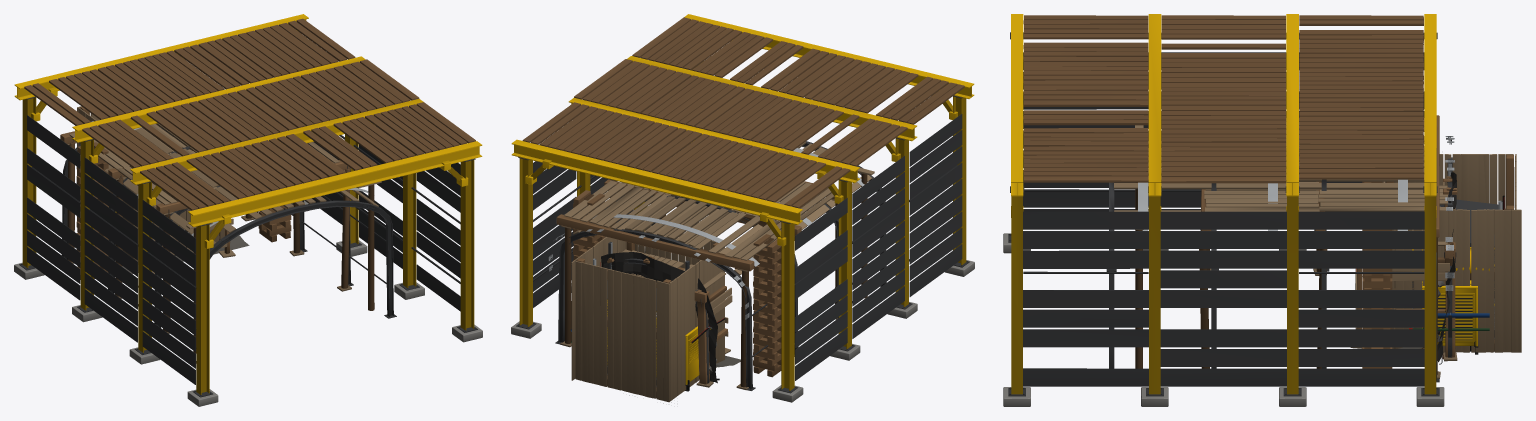
Rendered from mine-kit.glb.
The picture shows the model from 3 angles, left to right: view 1: azimuth 30°, elevation 25°; view 2: azimuth 150°, elevation 25°; view 3: azimuth 270°, elevation 25°; orthographic projection. The views are drawn at different scales.
Parts seen in each view (by area): view 1: shoring_4, shoring_1, shoring_2, rubble_wall, shaft_frame; view 2: shoring_4, shoring_1, shaft_frame, shaft_frame_landing, shoring_2, rubble_wall, timber_set, shoring_3, generator; view 3: shoring_4, shaft_frame, shoring_1, shaft_frame_landing, shoring_2, generator, timber_set, shoring_3, rubble_wall, elevator_cage, pipe_2m, steel_arch.
Boxes of the visible parts, x1,y1,x2,y2 form: shoring_4: [14, 14, 482, 406]; shoring_1: [60, 124, 381, 353]; shoring_2: [61, 123, 396, 363]; rubble_wall: [115, 126, 249, 274]; shaft_frame: [79, 106, 230, 264]; shoring_4: [511, 14, 974, 402]; shoring_1: [556, 154, 874, 390]; shaft_frame: [573, 225, 724, 401]; shaft_frame_landing: [571, 237, 722, 402]; shoring_2: [555, 141, 886, 390]; rubble_wall: [601, 252, 740, 383]; timber_set: [607, 249, 732, 387]; shoring_3: [548, 138, 864, 319]; generator: [607, 311, 719, 391]; shoring_4: [1003, 14, 1444, 406]; shaft_frame: [1382, 154, 1518, 352]; shoring_1: [1135, 115, 1440, 378]; shaft_frame_landing: [1386, 154, 1521, 352]; shoring_2: [1106, 141, 1439, 382]; generator: [1422, 280, 1478, 354]; timber_set: [1392, 182, 1457, 361]; shoring_3: [1138, 136, 1454, 290]; rubble_wall: [1350, 172, 1456, 362]; elevator_cage: [1412, 199, 1498, 338]; pipe_2m: [1409, 313, 1489, 346]; steel_arch: [1443, 176, 1457, 357].
Size of the model in its own units: 10.11 by 7.38 by 13.17.
46 materials, 5 textured.
